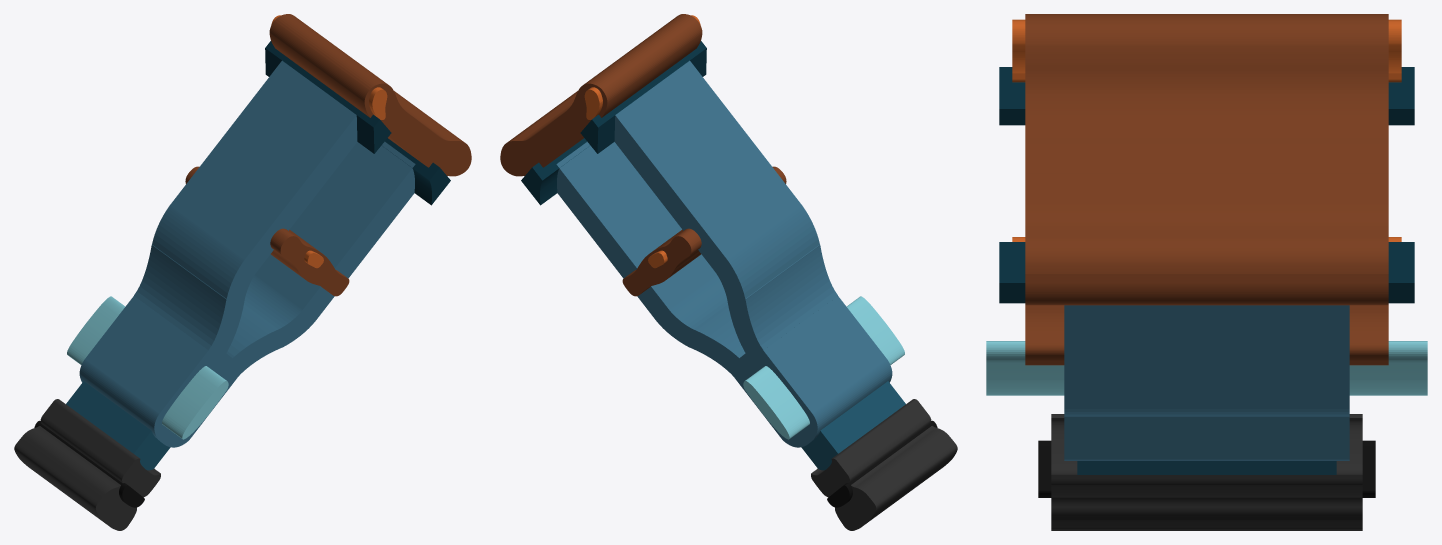
The picture shows the model from 3 angles, left to right: view 1: azimuth 30°, elevation 25°; view 2: azimuth 150°, elevation 25°; view 3: azimuth 270°, elevation 25°; orthographic projection. The views are drawn at different scales.
Visible parts, largest first — view 1: U+1FA7C_layer01_obj02, U+1FA7C_layer01_obj00, U+1FA7C_layer01_obj01, U+1FA7C_layer04_obj00, U+1FA7C_layer02_obj00, U+1FA7C_layer07_obj00, U+1FA7C_layer02_obj01, U+1FA7C_layer00_obj00, U+1FA7C_layer04_obj01, U+1FA7C_layer06_obj00, U+1FA7C_layer06_obj01, U+1FA7C_layer03_obj00; view 2: U+1FA7C_layer01_obj02, U+1FA7C_layer01_obj00, U+1FA7C_layer01_obj01, U+1FA7C_layer04_obj00, U+1FA7C_layer02_obj00, U+1FA7C_layer07_obj00, U+1FA7C_layer02_obj01, U+1FA7C_layer00_obj00, U+1FA7C_layer04_obj01, U+1FA7C_layer06_obj00, U+1FA7C_layer06_obj01, U+1FA7C_layer03_obj00; view 3: U+1FA7C_layer04_obj00, U+1FA7C_layer01_obj00, U+1FA7C_layer01_obj01, U+1FA7C_layer02_obj00, U+1FA7C_layer02_obj01, U+1FA7C_layer07_obj00, U+1FA7C_layer04_obj01, U+1FA7C_layer00_obj00, U+1FA7C_layer06_obj01, U+1FA7C_layer06_obj00, U+1FA7C_layer05_obj01, U+1FA7C_layer03_obj00.
Boxes of the visible parts, x1,y1,x2,y2 form: U+1FA7C_layer01_obj02: (134,60,357,360); U+1FA7C_layer01_obj00: (225,141,415,377); U+1FA7C_layer01_obj01: (79,296,242,447); U+1FA7C_layer04_obj00: (269,14,471,176); U+1FA7C_layer02_obj00: (14,426,144,530); U+1FA7C_layer07_obj00: (67,296,228,439); U+1FA7C_layer02_obj01: (40,399,160,497); U+1FA7C_layer00_obj00: (66,381,170,470); U+1FA7C_layer04_obj01: (185,166,349,296); U+1FA7C_layer06_obj00: (265,41,391,153); U+1FA7C_layer06_obj01: (385,138,450,205); U+1FA7C_layer03_obj00: (34,420,144,507); U+1FA7C_layer01_obj02: (614,60,837,360); U+1FA7C_layer01_obj00: (556,141,746,377); U+1FA7C_layer01_obj01: (729,296,892,447); U+1FA7C_layer04_obj00: (500,14,702,176); U+1FA7C_layer02_obj00: (827,426,957,530); U+1FA7C_layer07_obj00: (743,296,904,439); U+1FA7C_layer02_obj01: (811,399,931,497); U+1FA7C_layer00_obj00: (801,381,905,470); U+1FA7C_layer04_obj01: (622,166,786,296); U+1FA7C_layer06_obj00: (580,41,706,153); U+1FA7C_layer06_obj01: (521,138,586,205); U+1FA7C_layer03_obj00: (827,420,937,507); U+1FA7C_layer04_obj00: (1025,14,1388,305); U+1FA7C_layer01_obj00: (1064,305,1349,416); U+1FA7C_layer01_obj01: (1064,416,1349,460); U+1FA7C_layer02_obj00: (1051,497,1362,530); U+1FA7C_layer02_obj01: (1051,414,1362,497); U+1FA7C_layer07_obj00: (986,341,1427,395); U+1FA7C_layer04_obj01: (1025,305,1388,365); U+1FA7C_layer00_obj00: (1077,461,1336,474); U+1FA7C_layer06_obj01: (999,242,1414,303); U+1FA7C_layer06_obj00: (999,67,1414,125); U+1FA7C_layer05_obj01: (1012,19,1401,82); U+1FA7C_layer03_obj00: (1038,440,1375,497).
Bounding box in the file's own units: 0.3138 × 0.3173 × 0.17.
